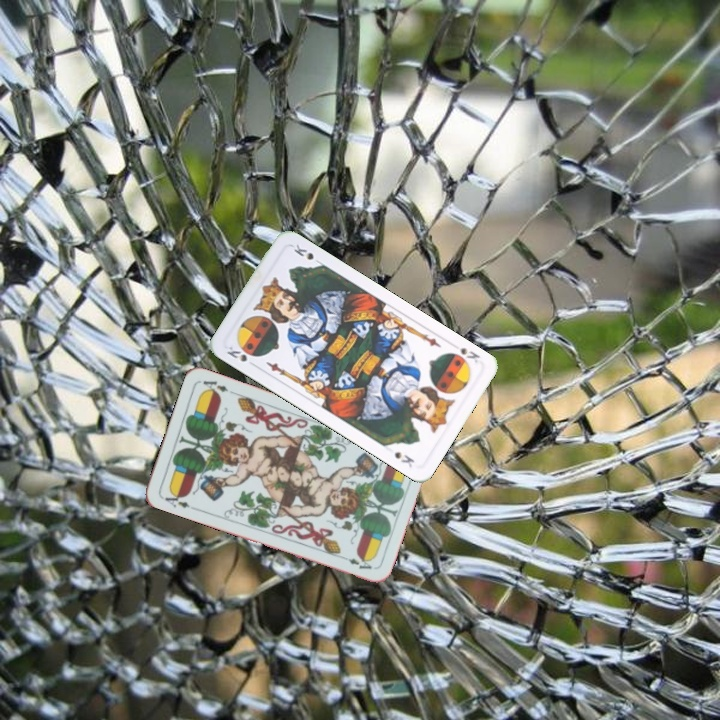EA: (161, 487, 197, 512)
SK: (223, 342, 259, 370), (456, 343, 483, 365)
